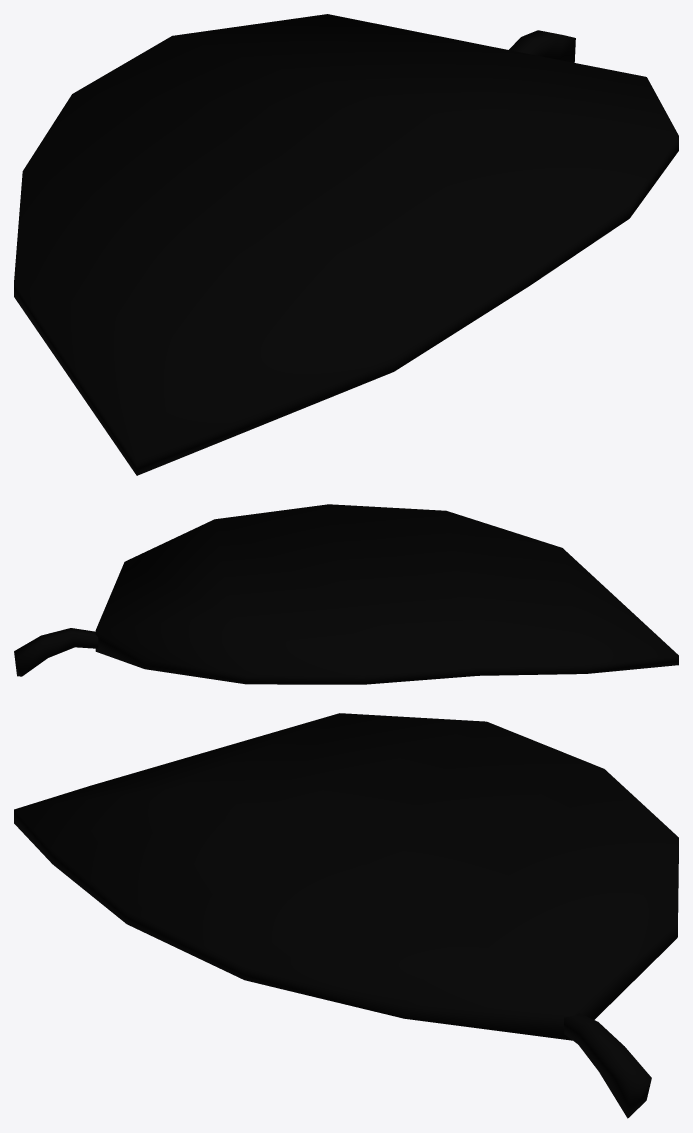
The picture shows the model from 3 angles, top to bottom: view 1: azimuth 30°, elevation 25°; view 2: azimuth 150°, elevation 25°; view 3: azimuth 270°, elevation 25°; orthographic projection. The views are drawn at different scales.
Visible parts, largest first — view 1: T1L7M002_1; view 2: T1L7M002_1; view 3: T1L7M002_1.
Boxes of the visible parts, box(x1,y1,x2,y2) form: T1L7M002_1: box(14, 14, 678, 475); T1L7M002_1: box(14, 504, 678, 684); T1L7M002_1: box(14, 713, 678, 1118).
Size of the model in its own units: 2.63 by 0.4619 by 2.21.
